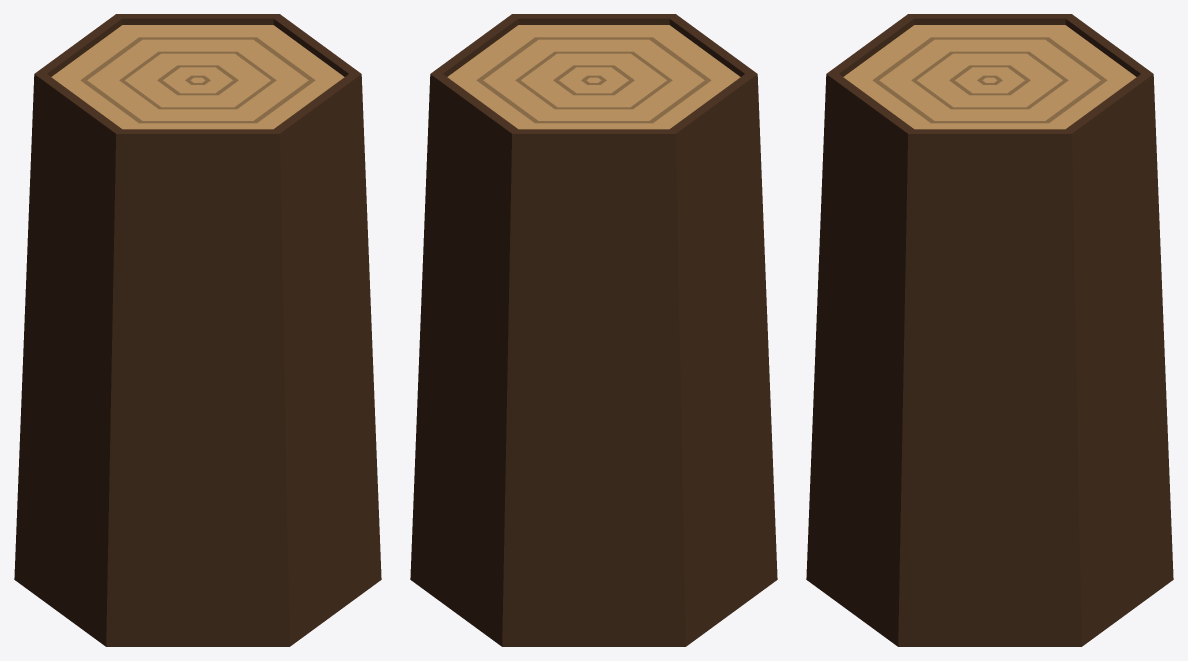
File: Wood.fbx
3 views of the same model, side by side, from view 1: azimuth 30°, elevation 25°; view 2: azimuth 150°, elevation 25°; view 3: azimuth 270°, elevation 25° (orthographic).
Visible parts, largest first — view 1: Wood_Log; view 2: Wood_Log; view 3: Wood_Log.
Part boxes in pixels (x1=…): Wood_Log: x1=14, y1=14, x2=381, y2=646; Wood_Log: x1=410, y1=14, x2=777, y2=646; Wood_Log: x1=806, y1=14, x2=1173, y2=646.
Bounding box in the file's own units: 0.5191 × 0.9113 × 0.5994.
